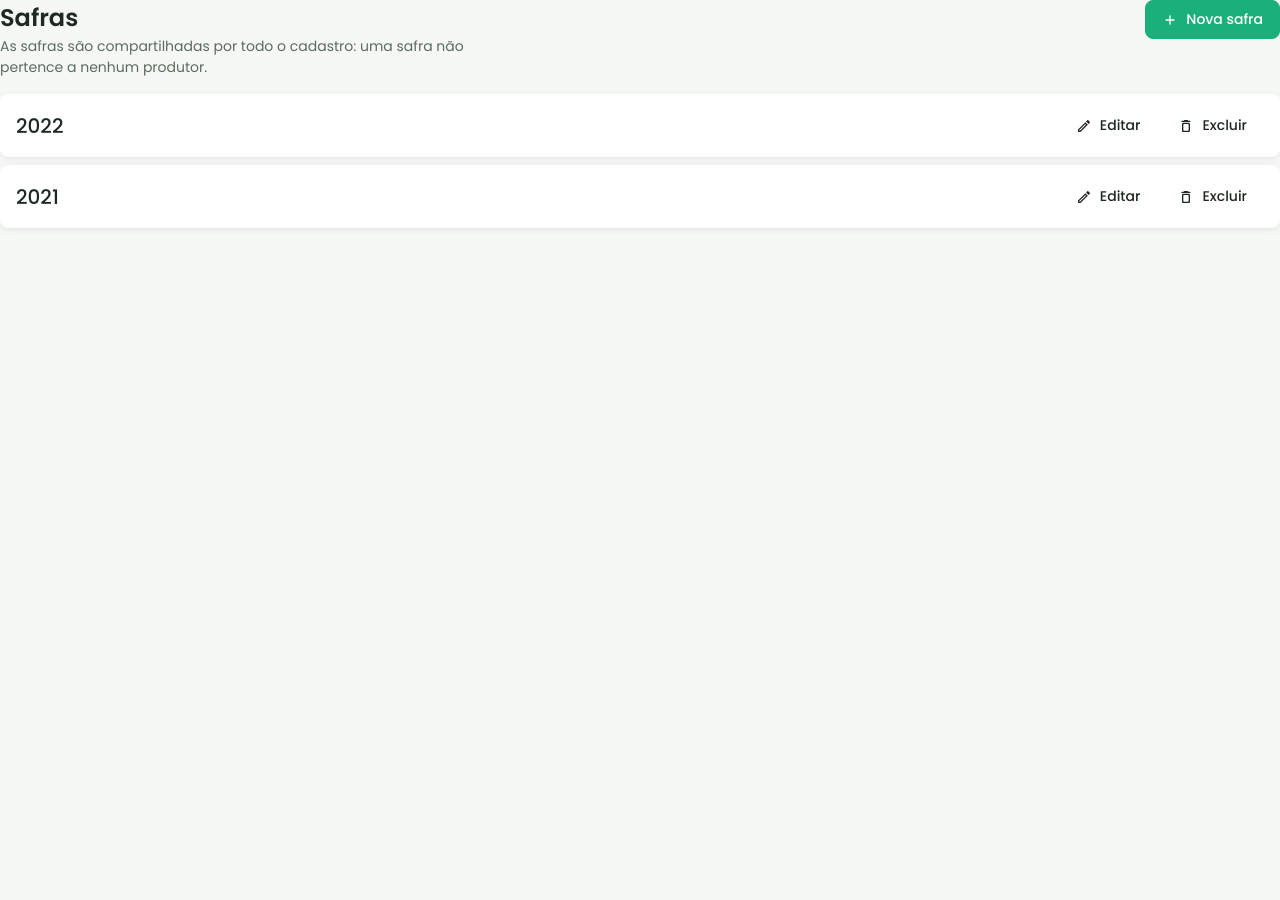
it: SafraList › clears the refusal when the dialog is dismissed
Expected: the link "2021" is shown, [16,182,59,212]
Click the button with aria-label "Excluir safra 2021" at (1213, 196), box [1161,177,1264,216]
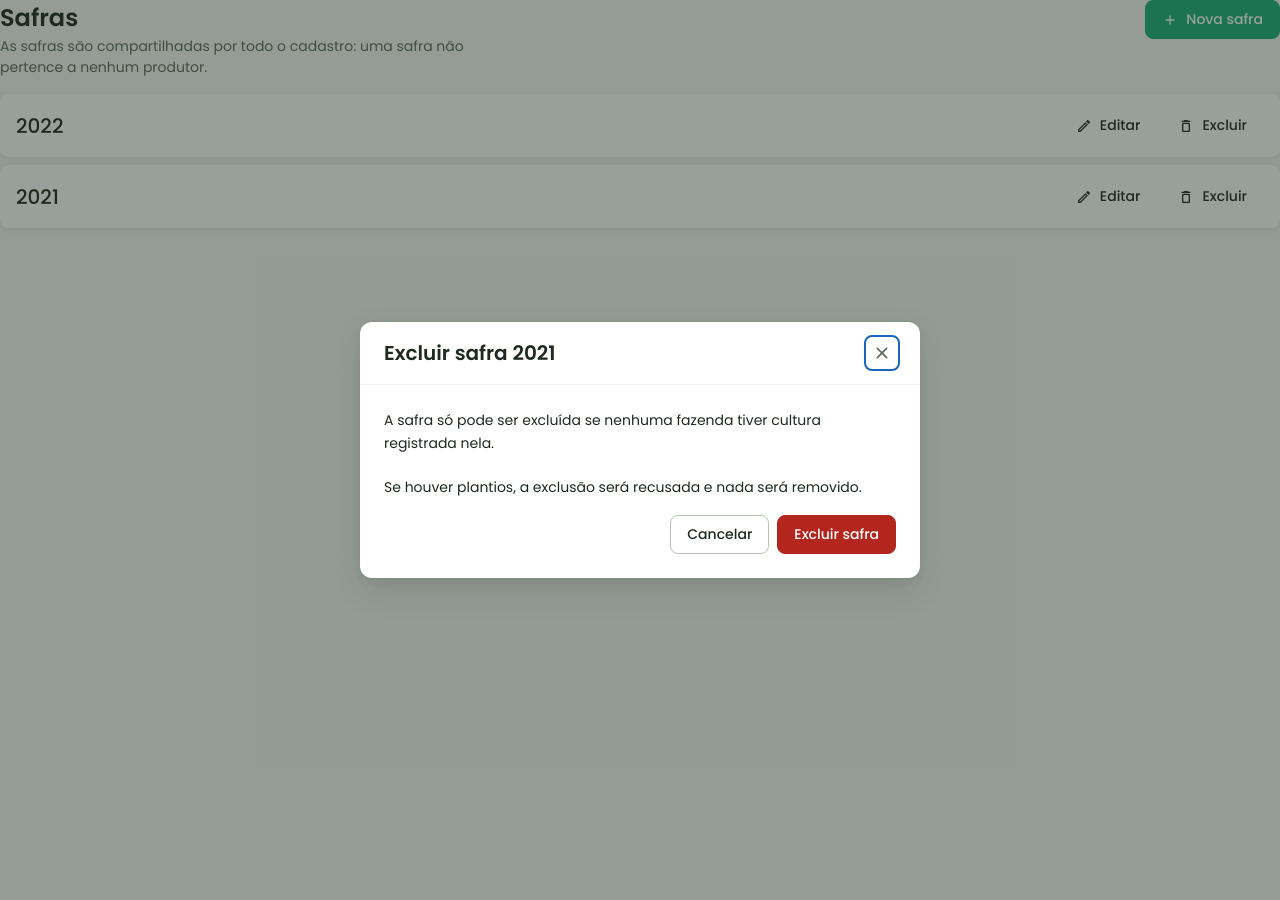
Click the button "Excluir safra" at (837, 534), box [777,515,896,554]
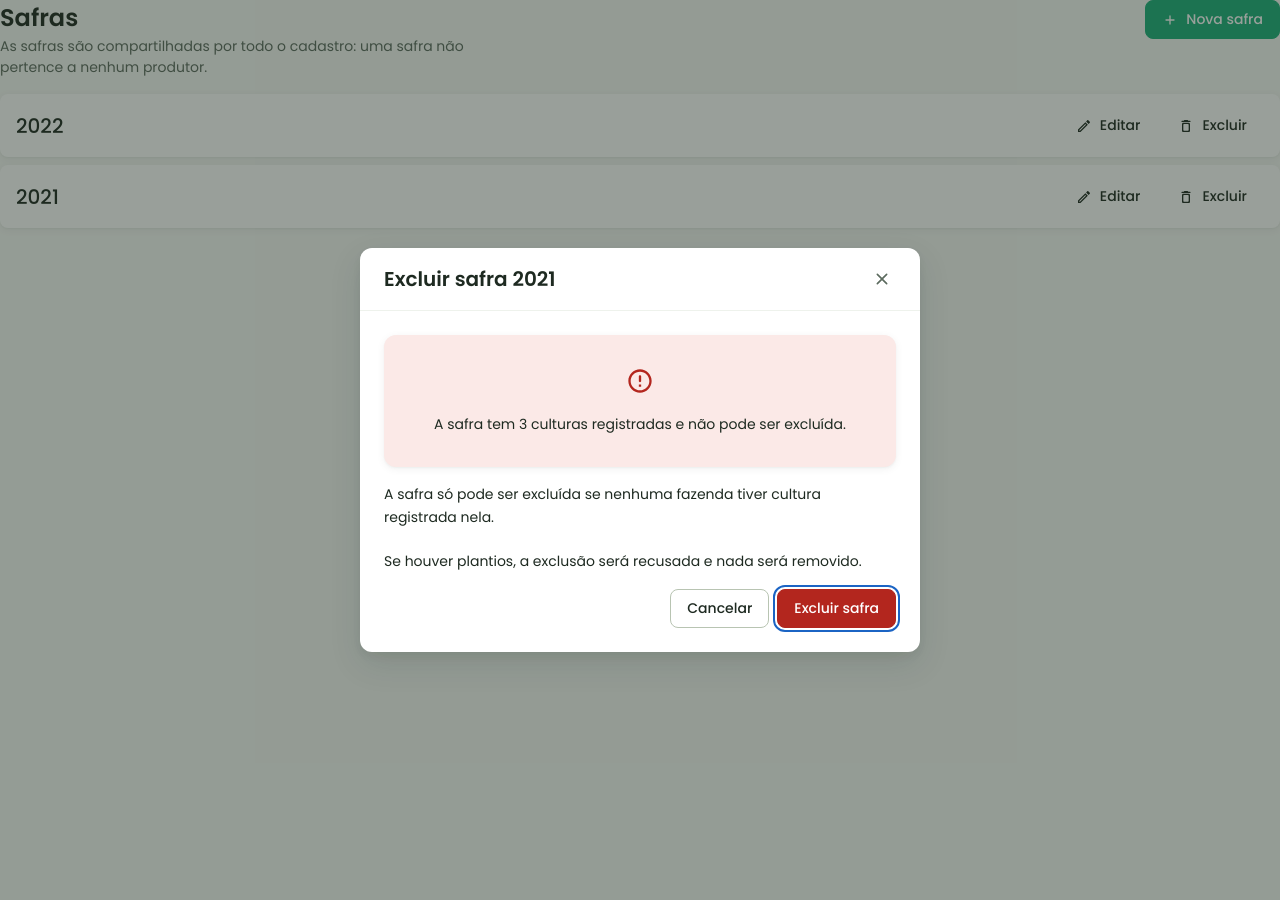
Result: the message "A safra tem 3 culturas registradas e não pode ser excluída." is shown at [384,335,896,467]
Click the button "Cancelar" at (720, 608), box [670,589,769,628]
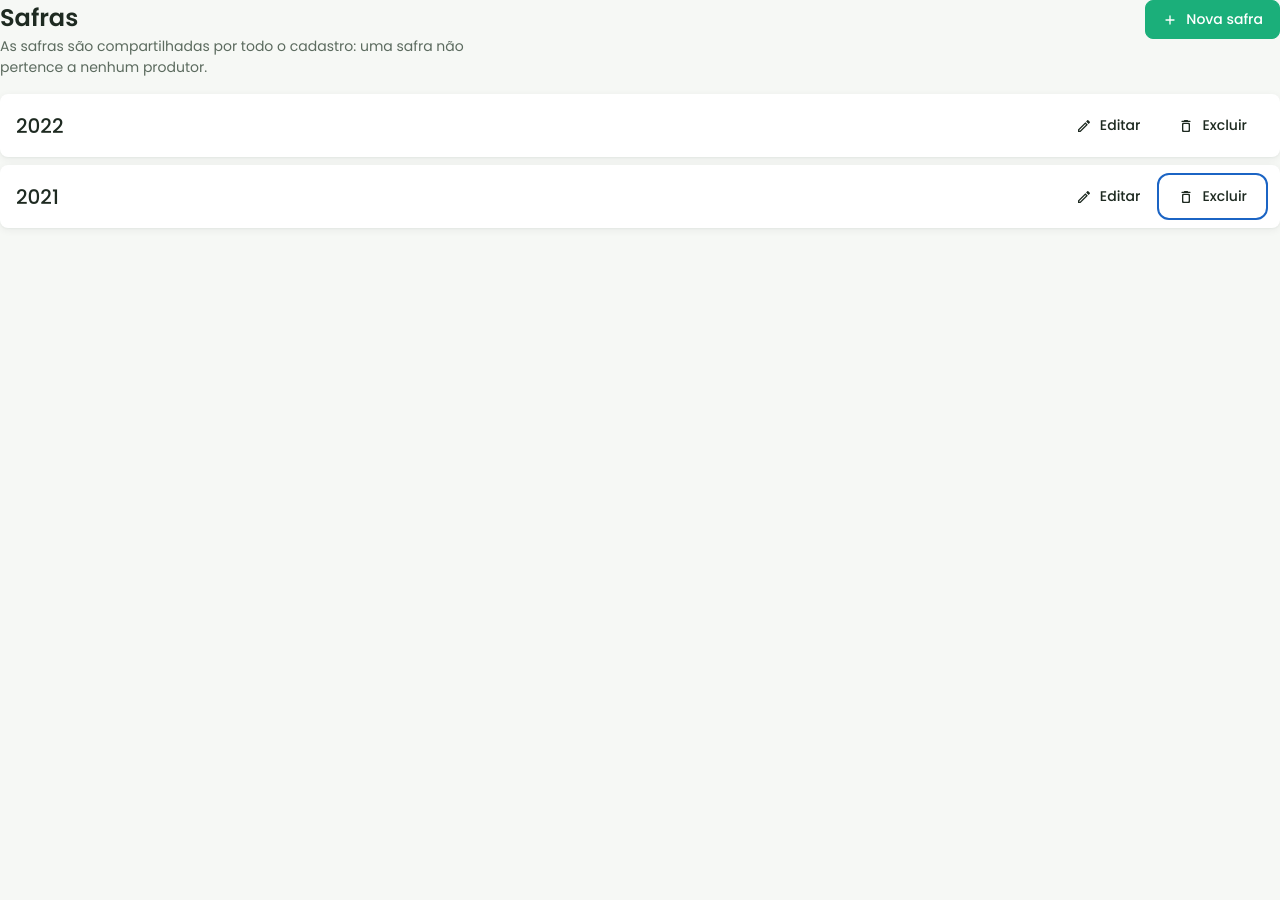
Expected: the link "2021" is shown, [16,182,59,212]
Result: the message "A safra tem 3 culturas registradas e não pode ser excluída." is gone
